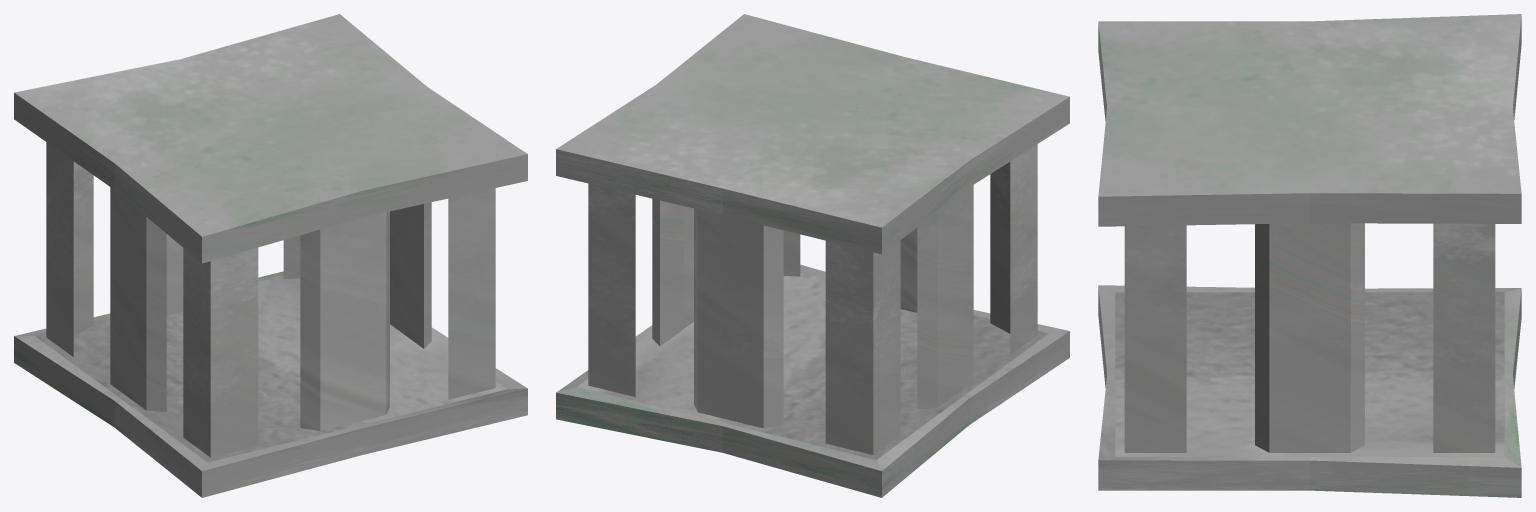
Rendered from Jaula_close.glb.
3 renders of one model, left to right at view 1: azimuth 30°, elevation 25°; view 2: azimuth 150°, elevation 25°; view 3: azimuth 270°, elevation 25°, orthographic. The views are drawn at different scales.
Visible parts, largest first — view 1: L_jaula_open; view 2: L_jaula_open; view 3: L_jaula_open.
Boxes of the visible parts, x1,y1,x2,y2 form: L_jaula_open: [14, 14, 527, 497]; L_jaula_open: [556, 14, 1069, 497]; L_jaula_open: [1098, 14, 1521, 497].
Size of the model in its own units: 2.38 by 1.89 by 2.38.
Materials: 1 (1 with a texture image).
